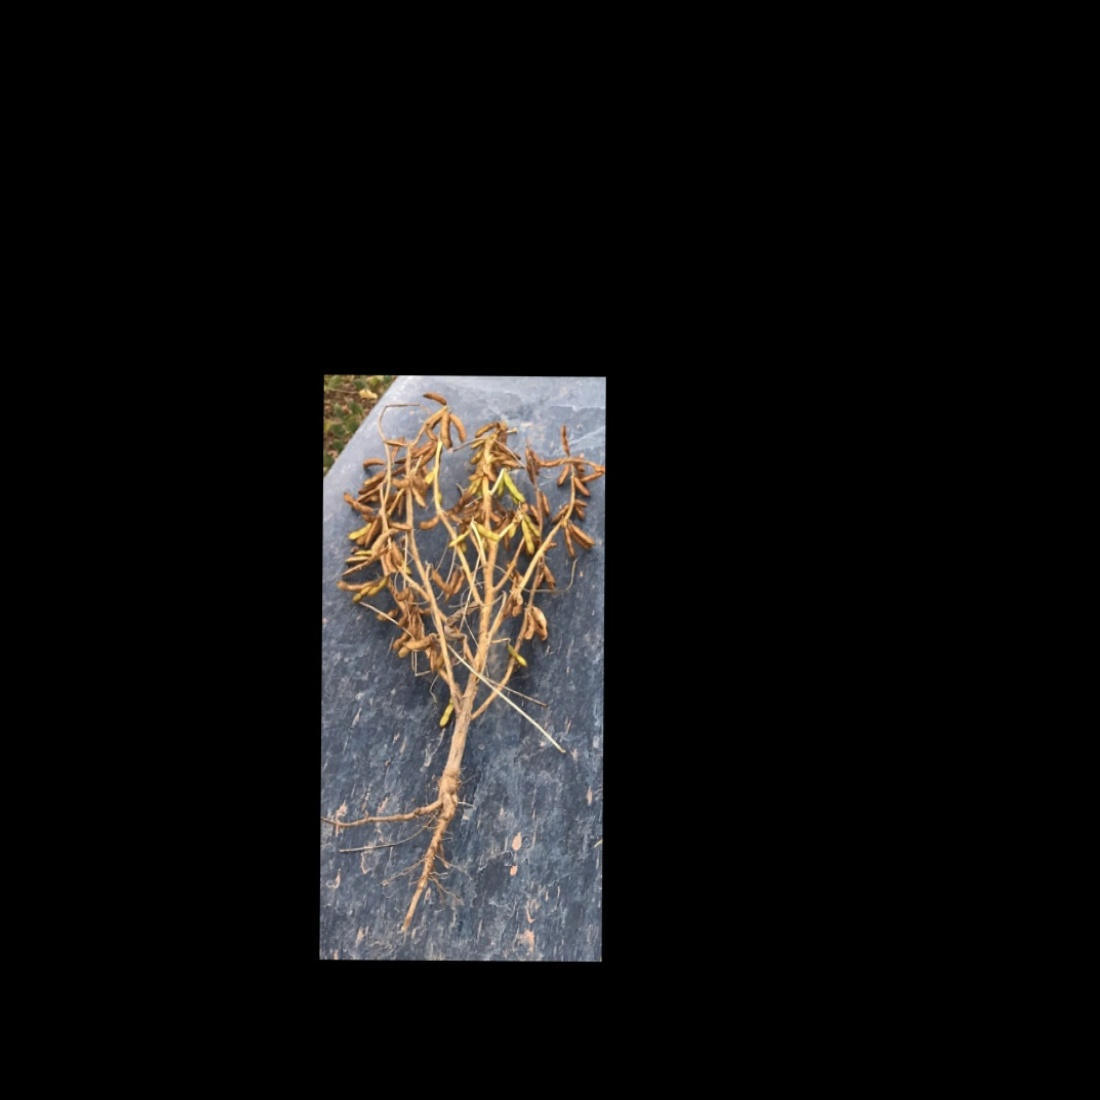pod: (501, 467, 527, 504), (515, 516, 536, 557), (338, 490, 374, 513), (401, 635, 438, 653), (448, 411, 467, 446), (561, 522, 577, 560), (419, 388, 449, 408), (366, 575, 390, 600), (552, 461, 573, 490), (416, 516, 445, 532), (471, 421, 498, 438), (358, 456, 387, 471), (573, 477, 593, 499)
soy: (332, 386, 600, 917)
